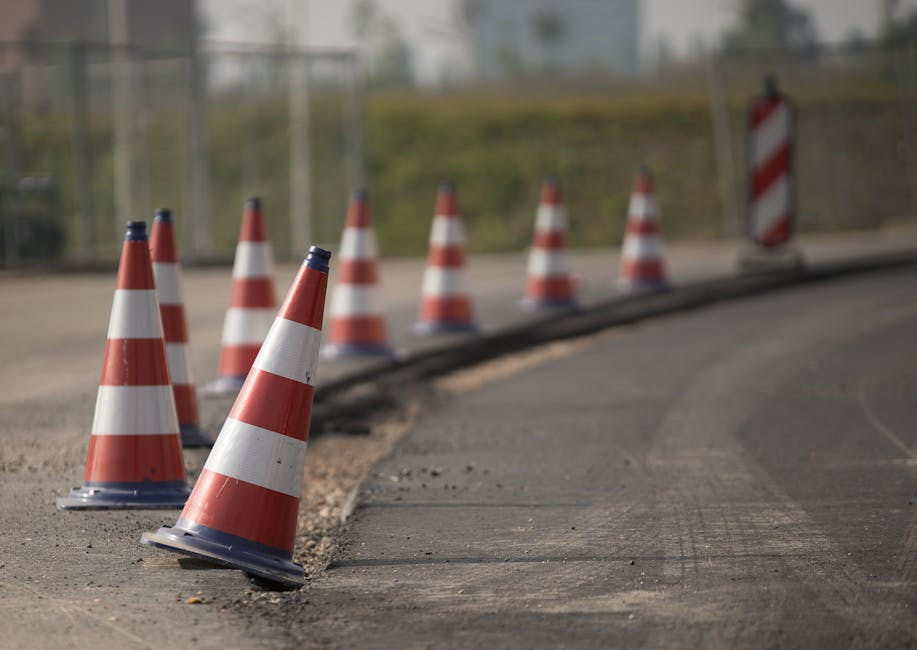traffic_cone: (140, 244, 333, 591), (56, 219, 193, 511), (147, 207, 214, 449), (201, 195, 281, 396), (733, 72, 806, 275), (319, 187, 394, 362), (409, 181, 481, 340), (518, 176, 584, 315), (614, 164, 673, 296)
